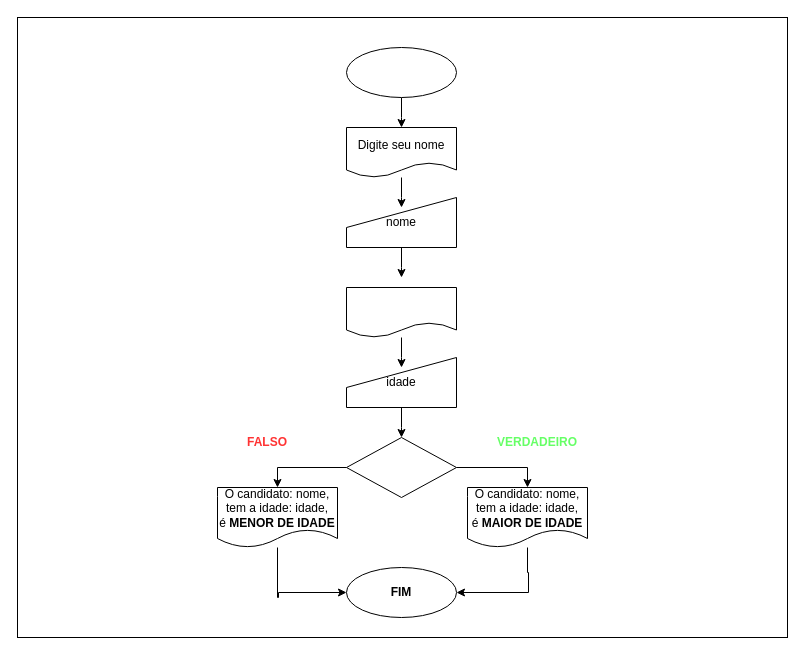
The diagram is 805 pixels wide and 655 high, and some of its shapes have lost their labels. The shapes that lost their labels are listed below. From the top down, each one's centre as x and y in pixels, then its label:
At point 401,72: "INÍCIO".
At point 401,312: "Digite sua idade".
At point 401,467: "idade >=18".
